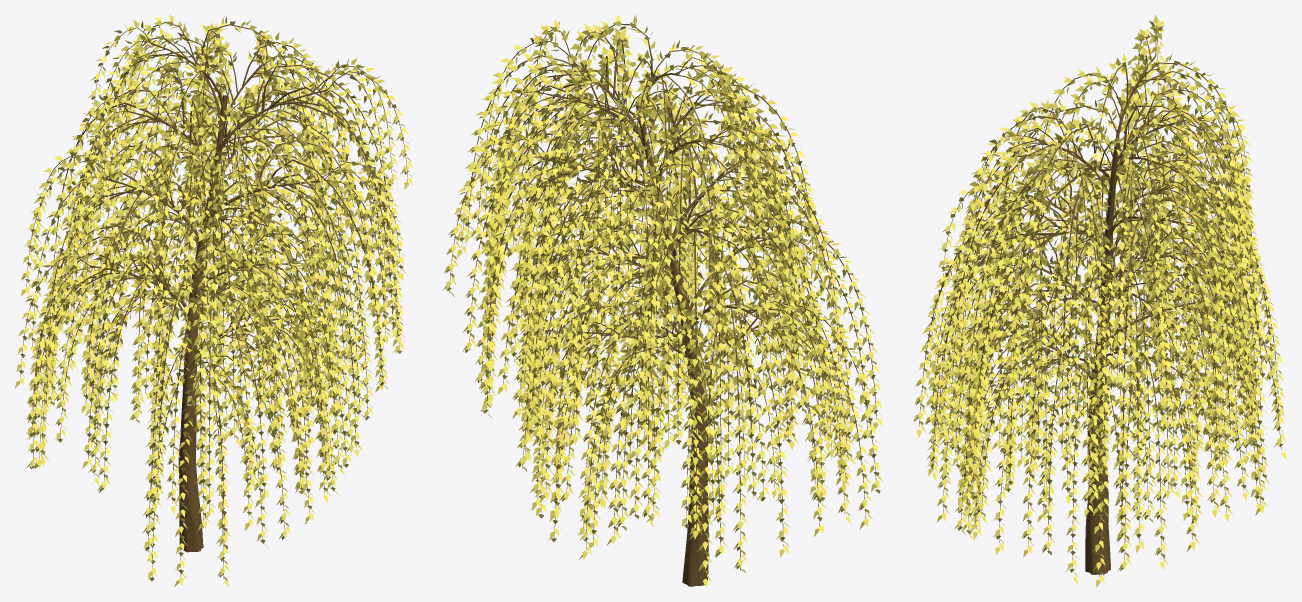
The model's file is Arbol4.fbx.
3 views of the same model, side by side, from view 1: azimuth 30°, elevation 25°; view 2: azimuth 150°, elevation 25°; view 3: azimuth 270°, elevation 25° (orthographic). The views are drawn at different scales.
Visible parts, largest first — view 1: Foliage003; view 2: Foliage003; view 3: Foliage003.
Part boxes in pixels (x1=…): Foliage003: x1=15, y1=14, x2=412, y2=587; Foliage003: x1=442, y1=15, x2=883, y2=587; Foliage003: x1=913, y1=14, x2=1286, y2=587.
Bounding box in the file's own units: 337 × 460 × 292.
